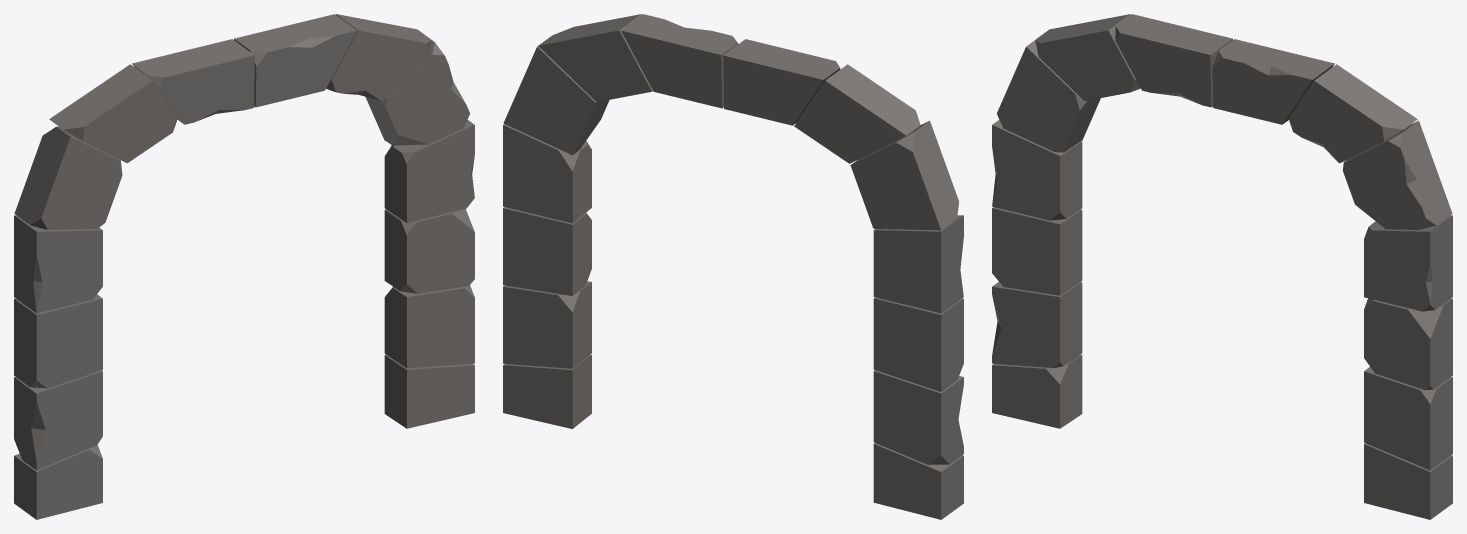
File: SM_Env_Door_22.fbx
The picture shows the model from 3 angles, left to right: view 1: azimuth 30°, elevation 25°; view 2: azimuth 150°, elevation 25°; view 3: azimuth 330°, elevation 25°; orthographic projection.
Parts seen in each view (by area): view 1: SM_Env_Door_22; view 2: SM_Env_Door_22; view 3: SM_Env_Door_22.
Boxes of the visible parts, bbox=[...] form: SM_Env_Door_22: bbox=[14, 14, 474, 519]; SM_Env_Door_22: bbox=[503, 14, 963, 519]; SM_Env_Door_22: bbox=[992, 14, 1452, 519].
Bounding box in the file's own units: 159 × 143 × 14.14.
Materials: 1 (1 with a texture image).
